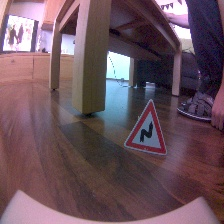vorsicht: (123, 94, 173, 157)
